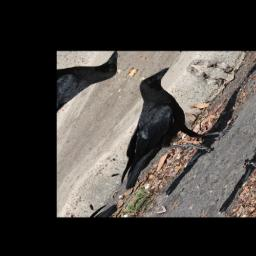Crow: (73, 62, 255, 204)
